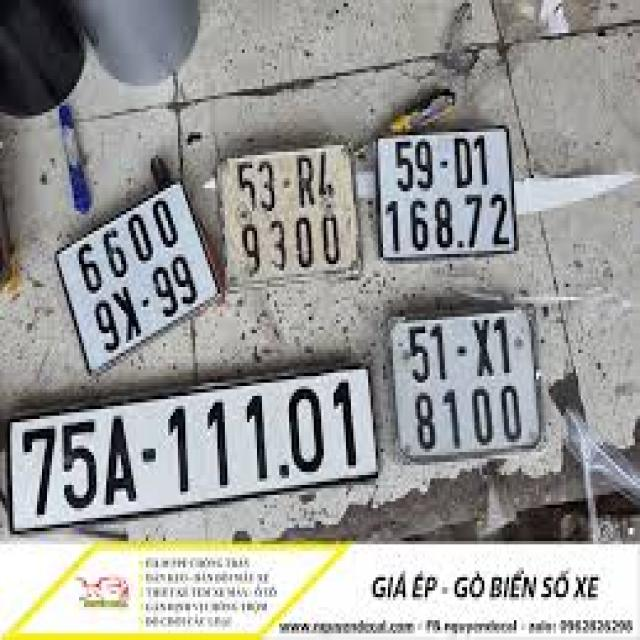bien_so: (7, 350, 392, 553), (52, 168, 228, 376), (210, 115, 364, 326), (376, 289, 542, 471), (371, 107, 522, 286)
